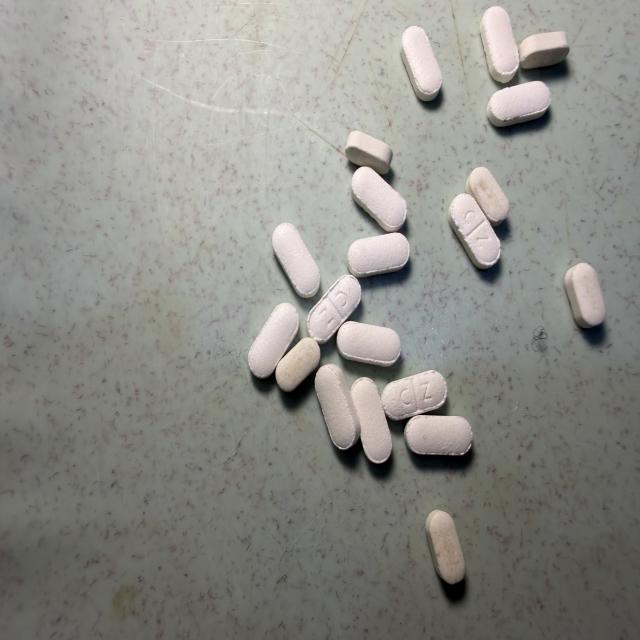pill: (315, 365, 360, 449), (449, 194, 500, 268), (249, 303, 299, 378), (307, 275, 361, 344), (351, 378, 392, 463), (272, 223, 319, 297), (352, 167, 406, 231), (382, 370, 447, 420), (402, 26, 442, 101), (481, 6, 519, 82), (487, 81, 550, 126), (426, 510, 464, 584), (337, 322, 400, 366), (348, 233, 409, 277), (405, 416, 472, 455), (565, 263, 605, 328), (466, 167, 509, 226), (276, 338, 320, 391), (345, 131, 392, 174), (519, 32, 569, 68)
